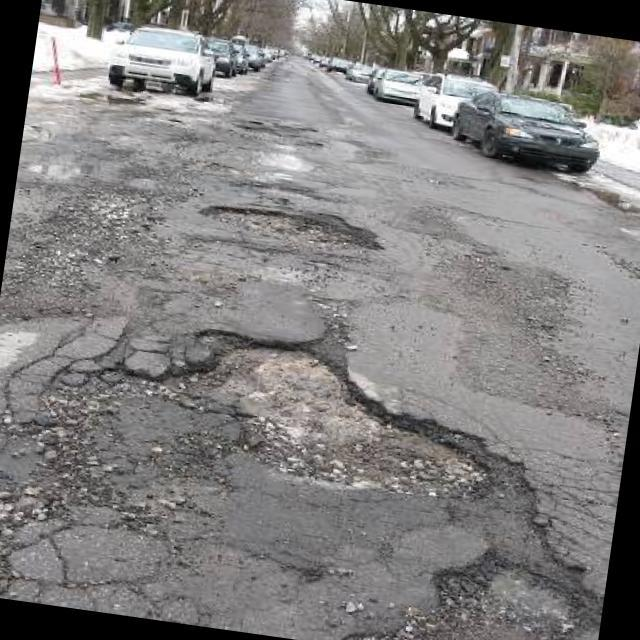Pothole: (138, 318, 514, 516), (417, 537, 601, 640), (24, 157, 170, 256), (194, 194, 386, 262), (174, 130, 325, 178)
